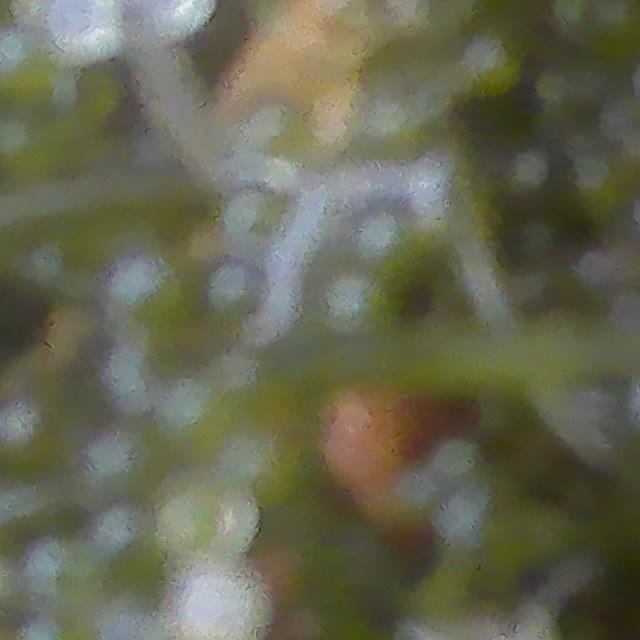SeaGrape: (168, 567, 266, 640), (152, 374, 235, 455), (38, 0, 112, 54), (205, 259, 262, 315)
